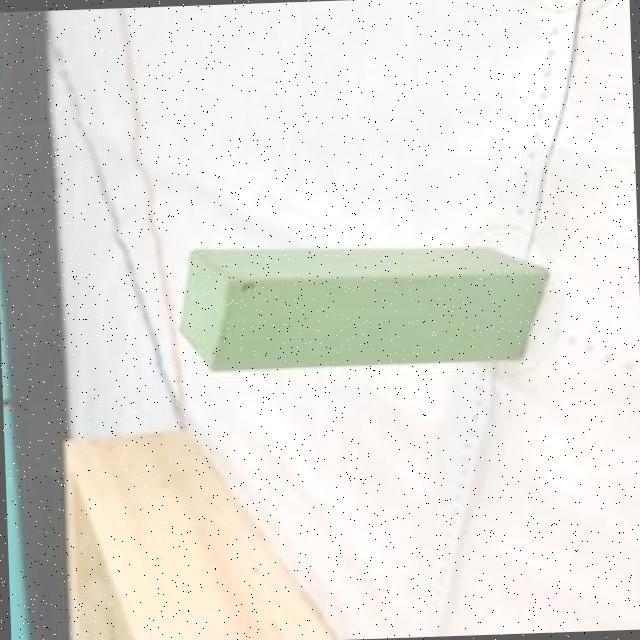greenbox: (172, 232, 548, 377)
